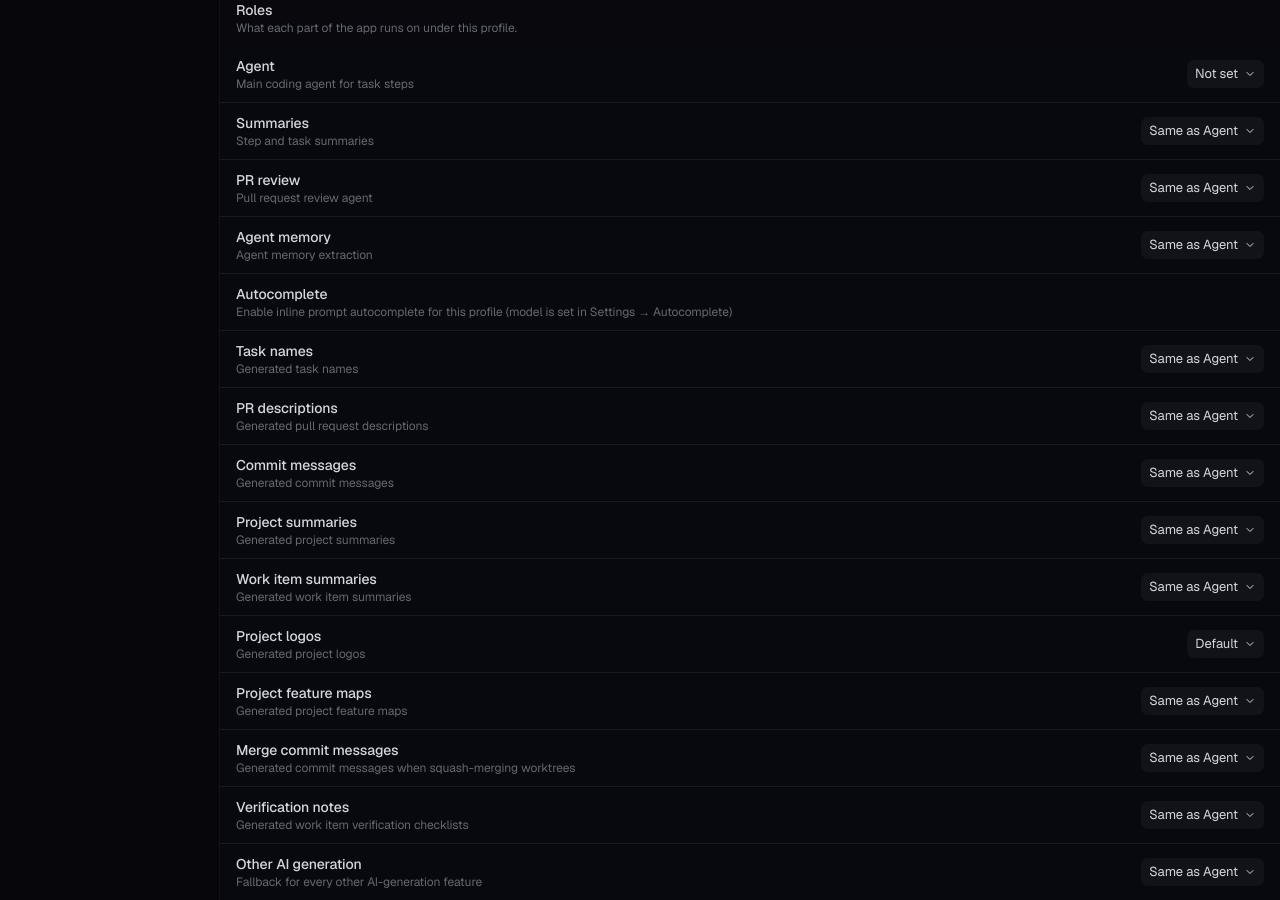
Test: ModelProfilesSettings › renders the project feature map role like any other chat role
The width and height of the screenshot is (1280, 900).
(page scrolled)
What coordinates should you click on to do the following:
click the button "Same as Agent" in the row of "Generated project feature maps"
I would click on:
 (1203, 701)
Its box is [1141,687,1264,715].
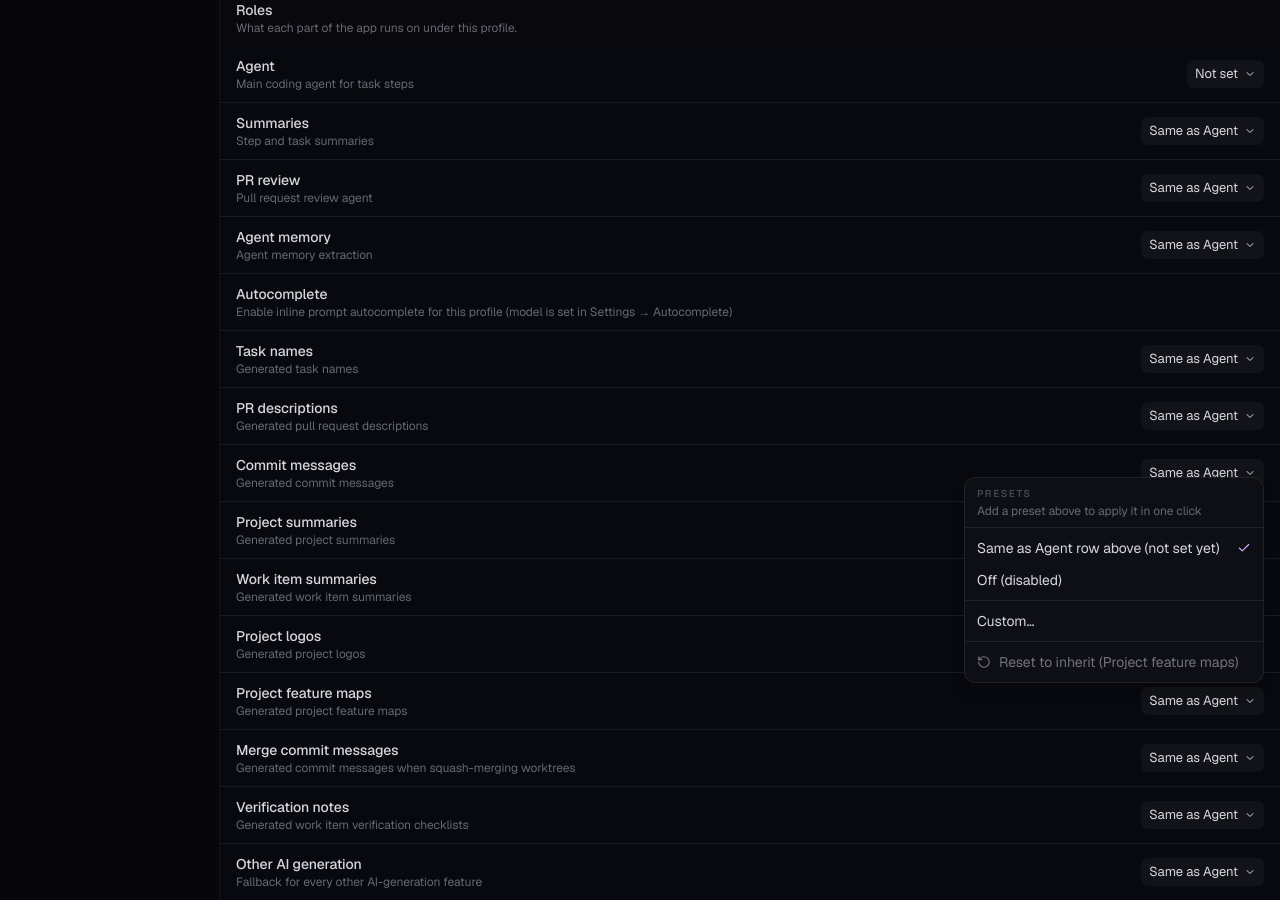
Now the text "Custom…" is shown, box [977,612,1034,630]
